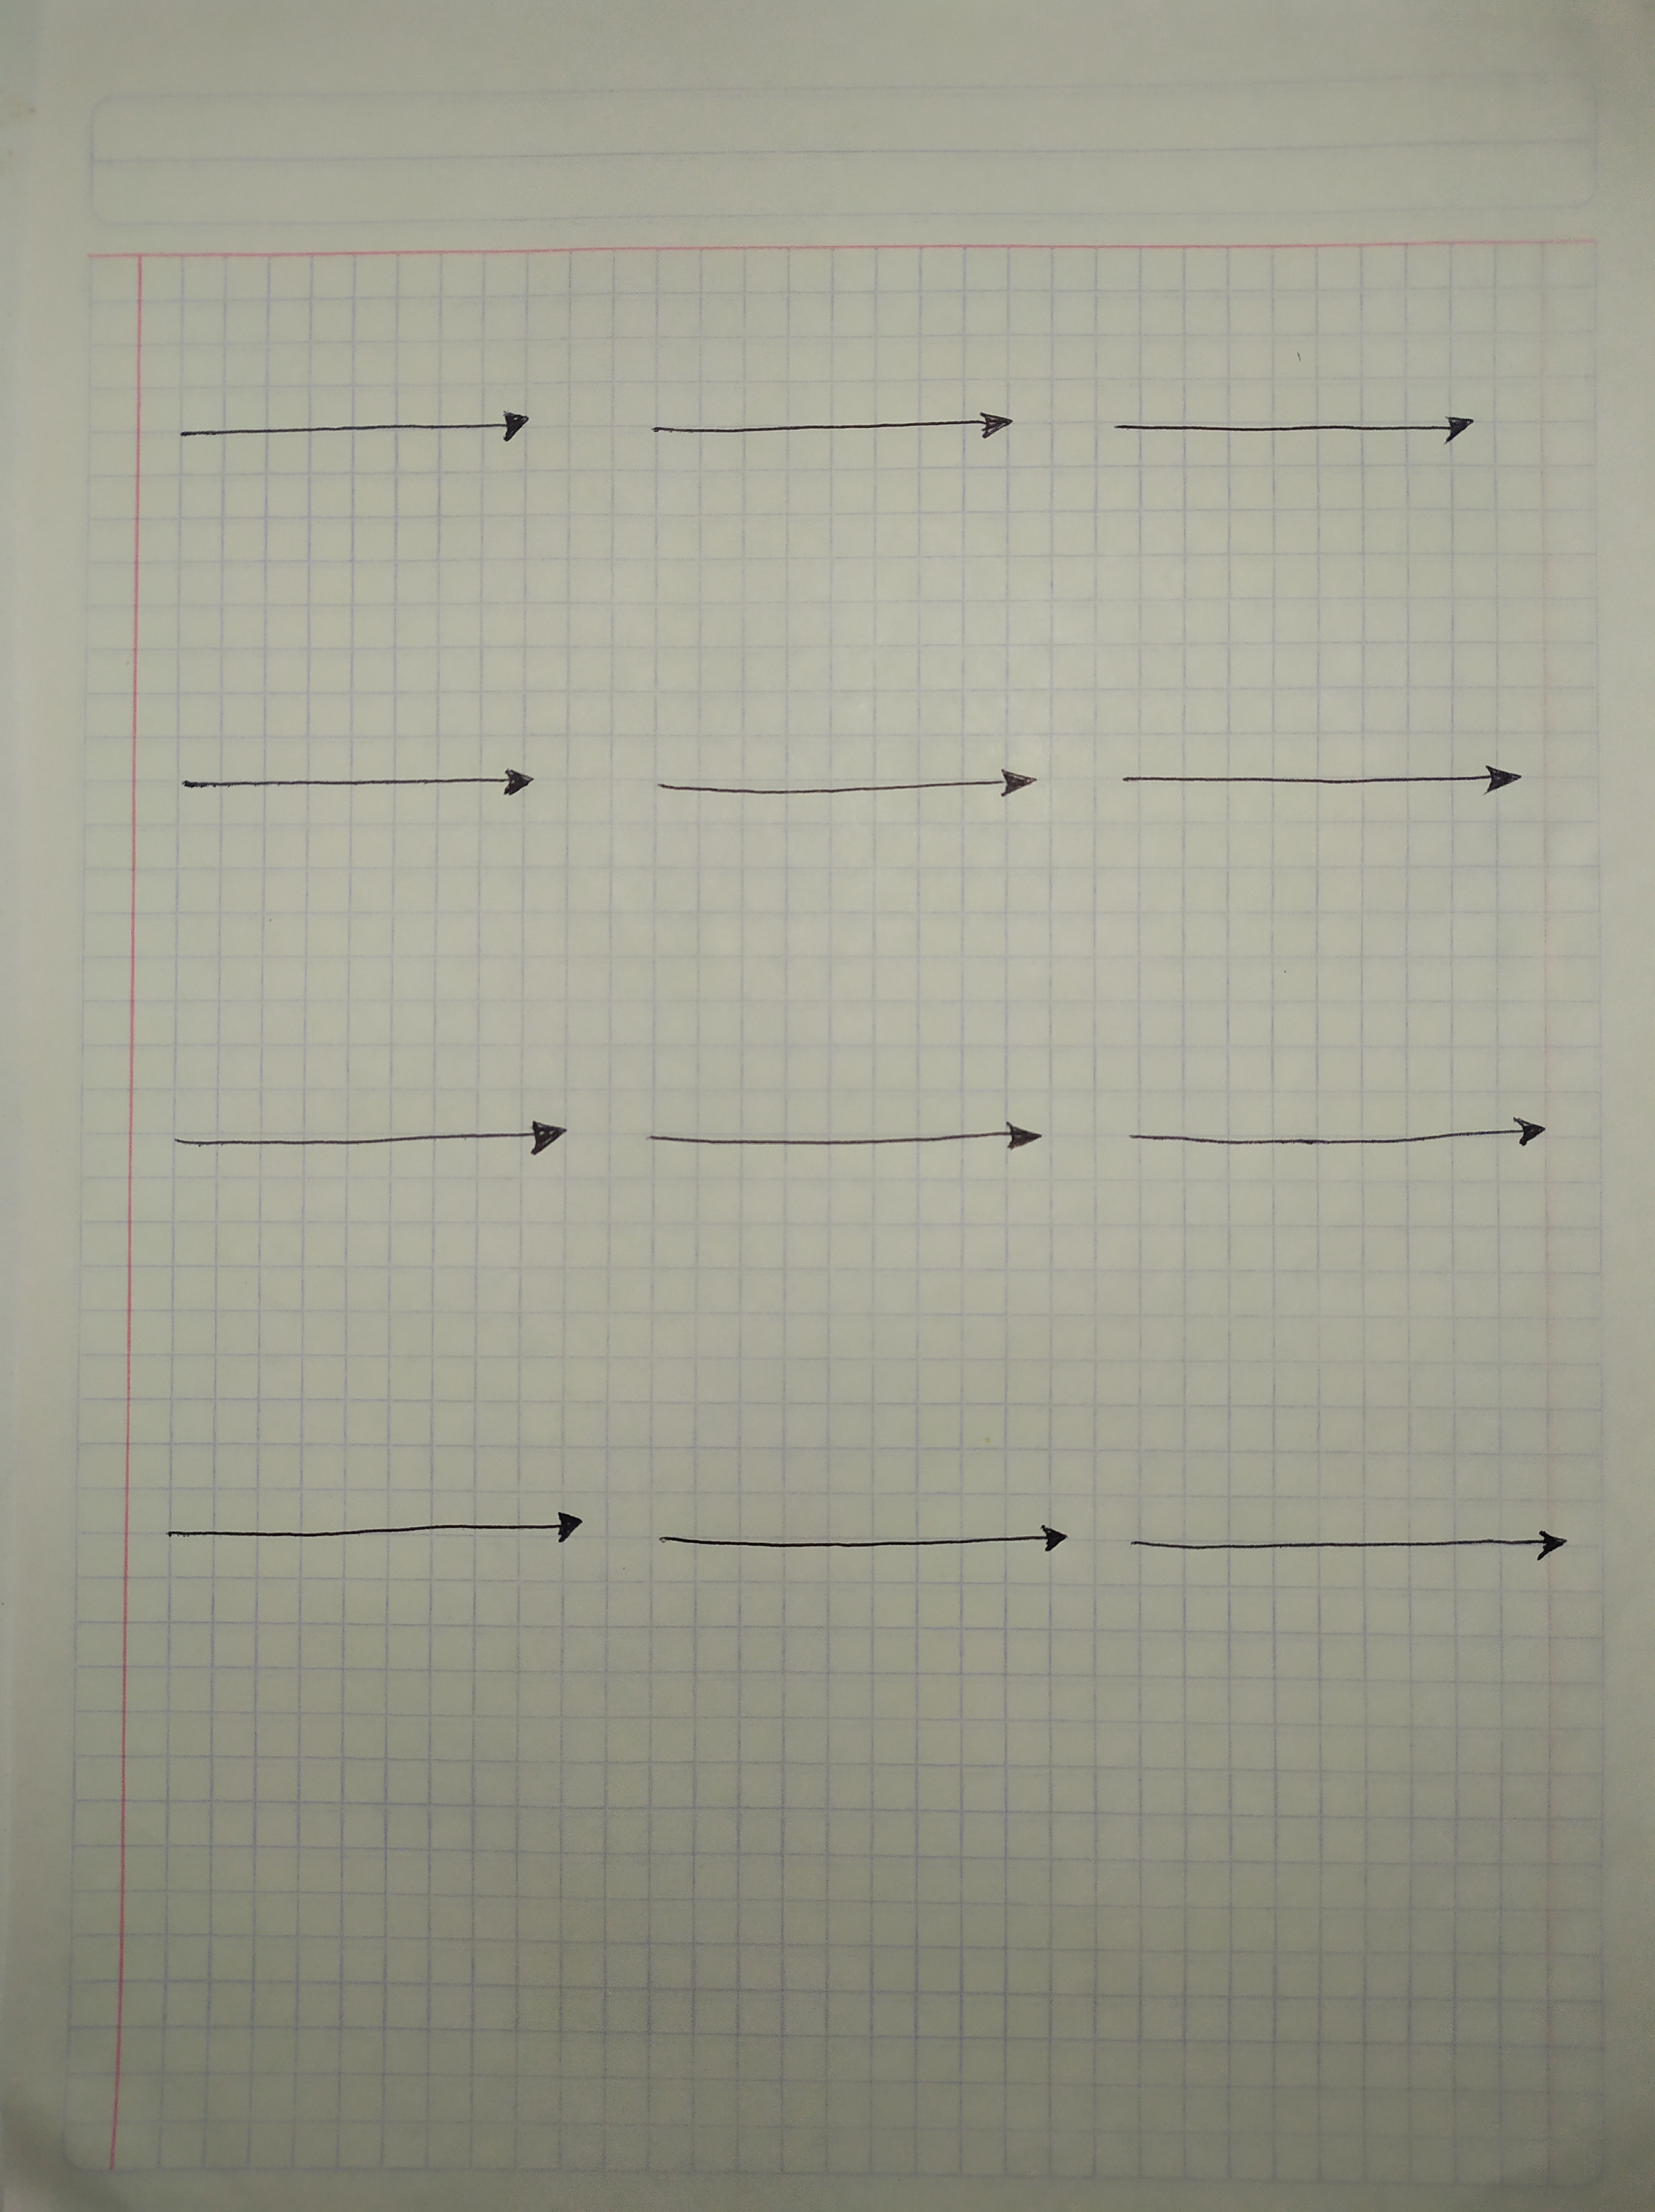arrow_line_right: (148, 1079, 579, 1197), (615, 1096, 1080, 1194), (626, 744, 1052, 848), (134, 1487, 598, 1581), (1078, 377, 1490, 476), (1106, 1096, 1573, 1182), (158, 382, 568, 473), (1093, 744, 1540, 825), (638, 1513, 1081, 1592), (1116, 1513, 1577, 1586), (162, 747, 562, 827), (629, 389, 1017, 471)
